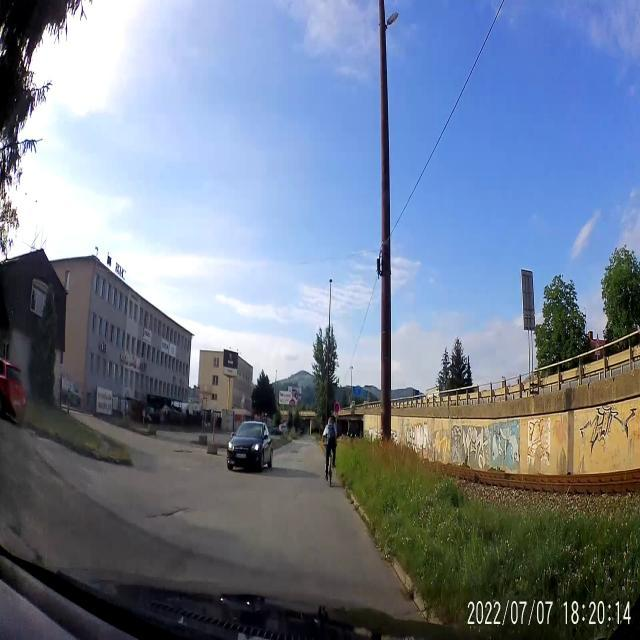Pothole: (148, 499, 190, 527)
